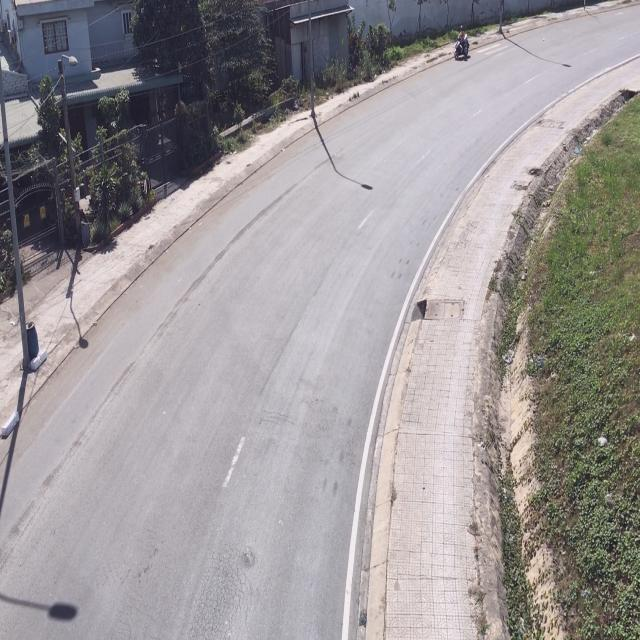motorbike: (453, 26, 470, 58)
